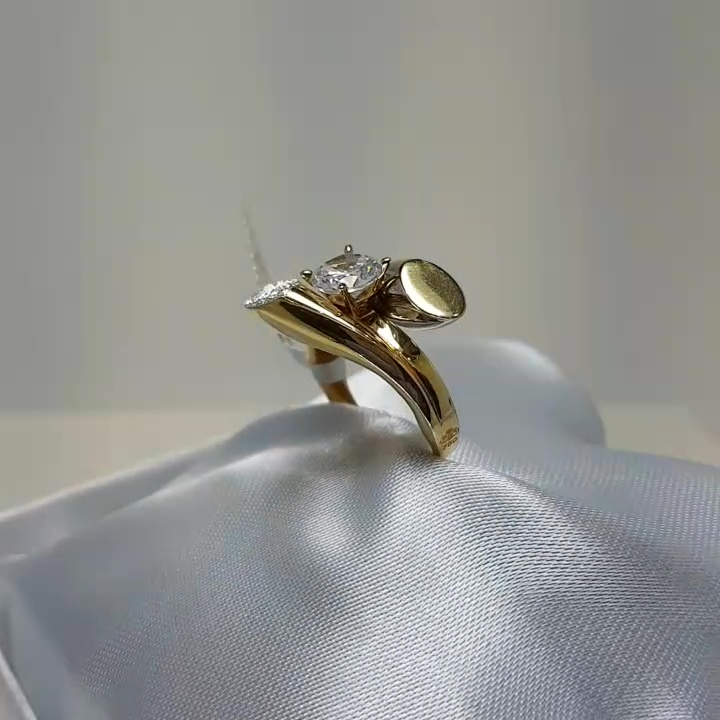Ring 7: (233, 238, 466, 472)
